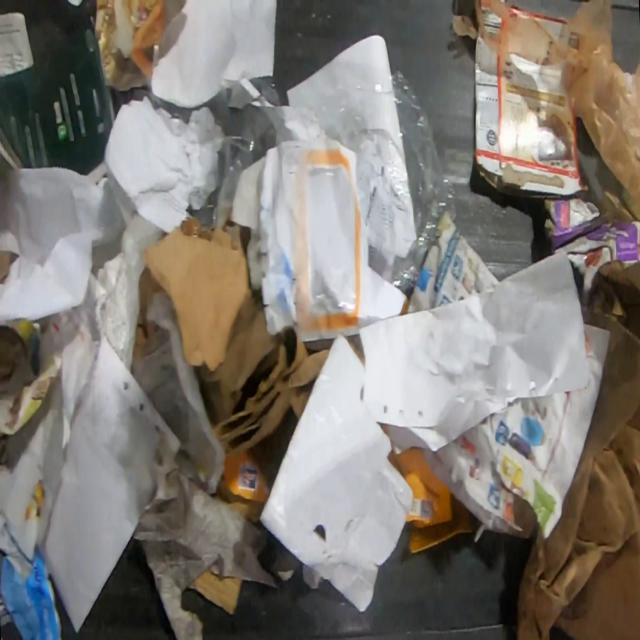cardboard: (132, 215, 330, 455), (514, 262, 640, 639), (258, 332, 413, 617), (0, 16, 117, 186), (474, 30, 590, 200), (542, 198, 640, 307), (508, 6, 567, 43)
soft_plastic: (474, 0, 639, 223), (303, 69, 456, 292), (133, 290, 228, 497), (186, 72, 281, 230)
